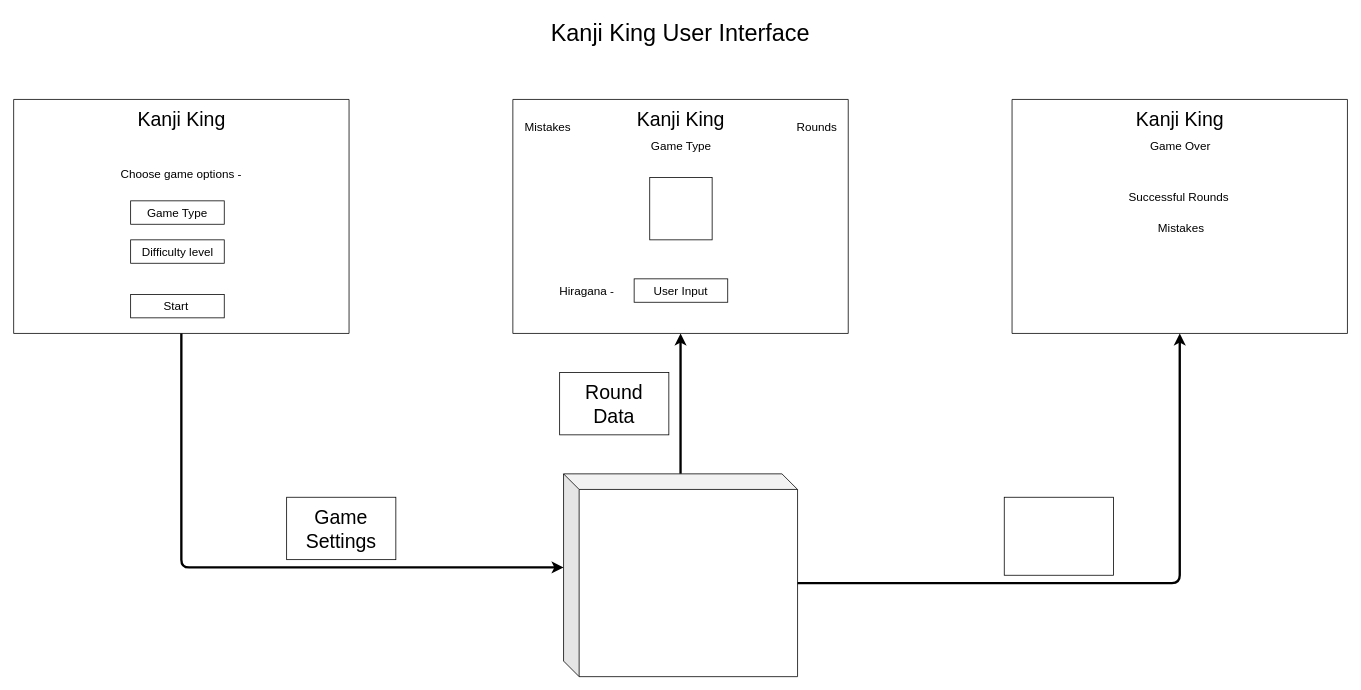
This 1361x690 diagram has some shape labels left out. The centre of each missing label's shape, as x and y in pixels:
"Domain" goes at [680,575].
"End Game Data" goes at [1058,535].
"Kanji" goes at [680,208].
